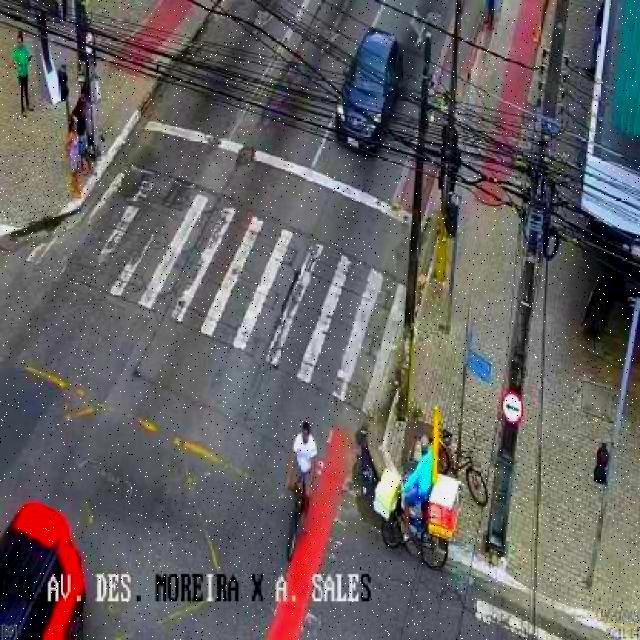Car: (2, 498, 91, 640), (332, 24, 404, 154)
Cycle: (381, 499, 448, 571), (440, 427, 490, 507)
